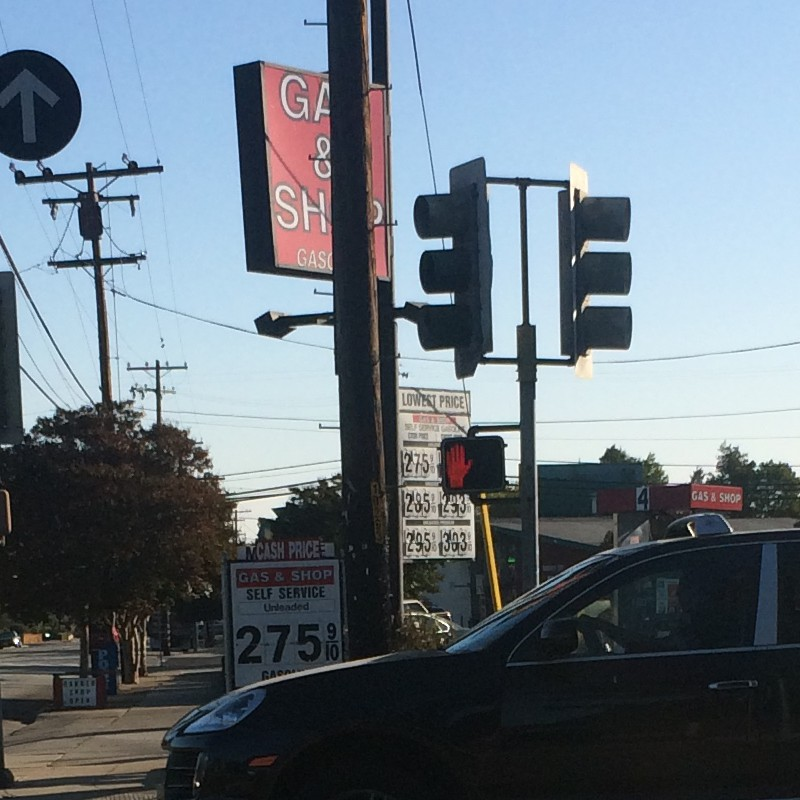stop: (438, 441, 508, 497)
